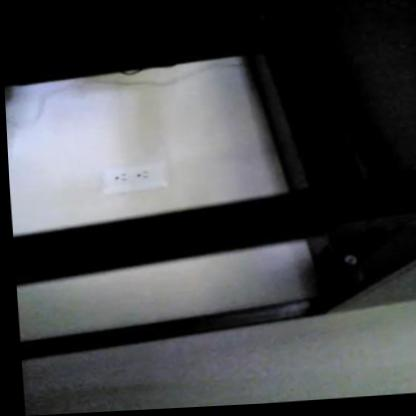OUTLET: (100, 158, 168, 193)
